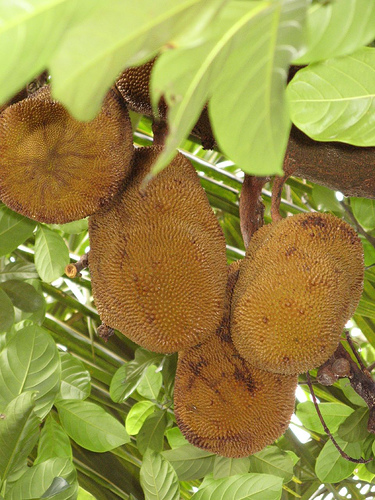jackfruit: (87, 143, 227, 353), (167, 250, 303, 465), (231, 210, 366, 375), (0, 76, 133, 225)
